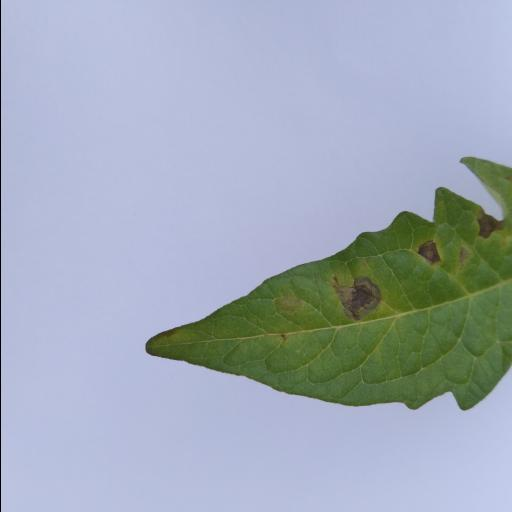disease_tomato: (143, 186, 512, 414)
